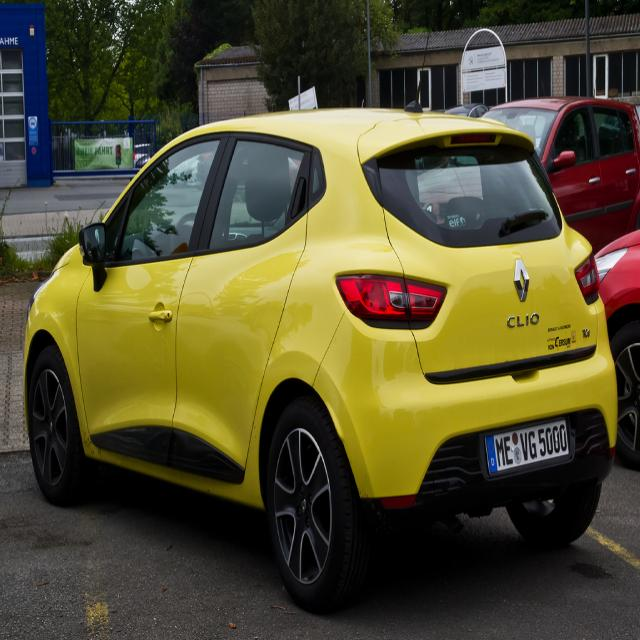car: (21, 105, 618, 614)
